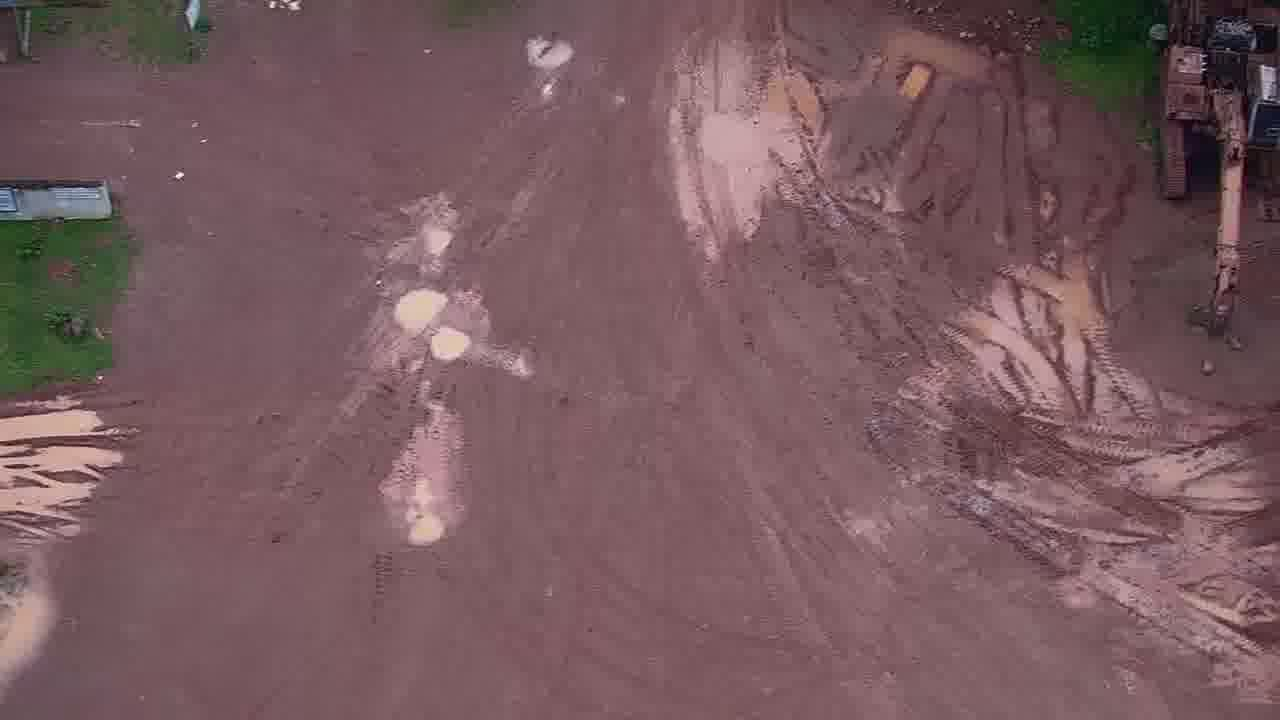HMV: (1150, 1, 1278, 330)
